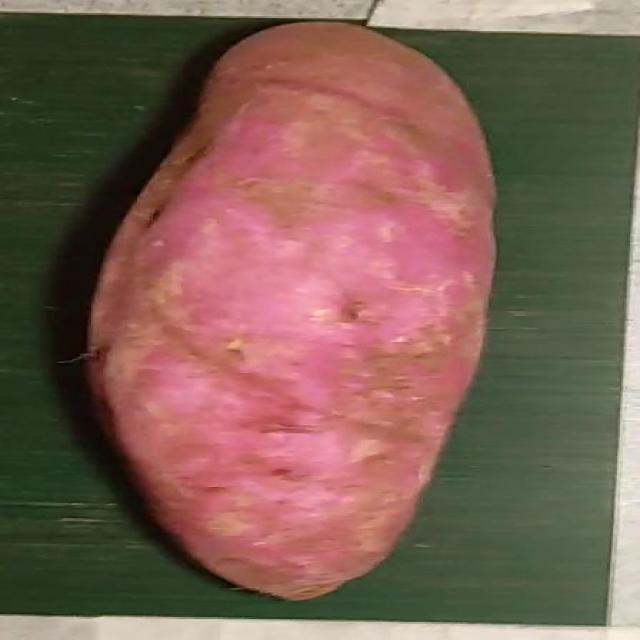Sweet Potato: (90, 23, 496, 599)
